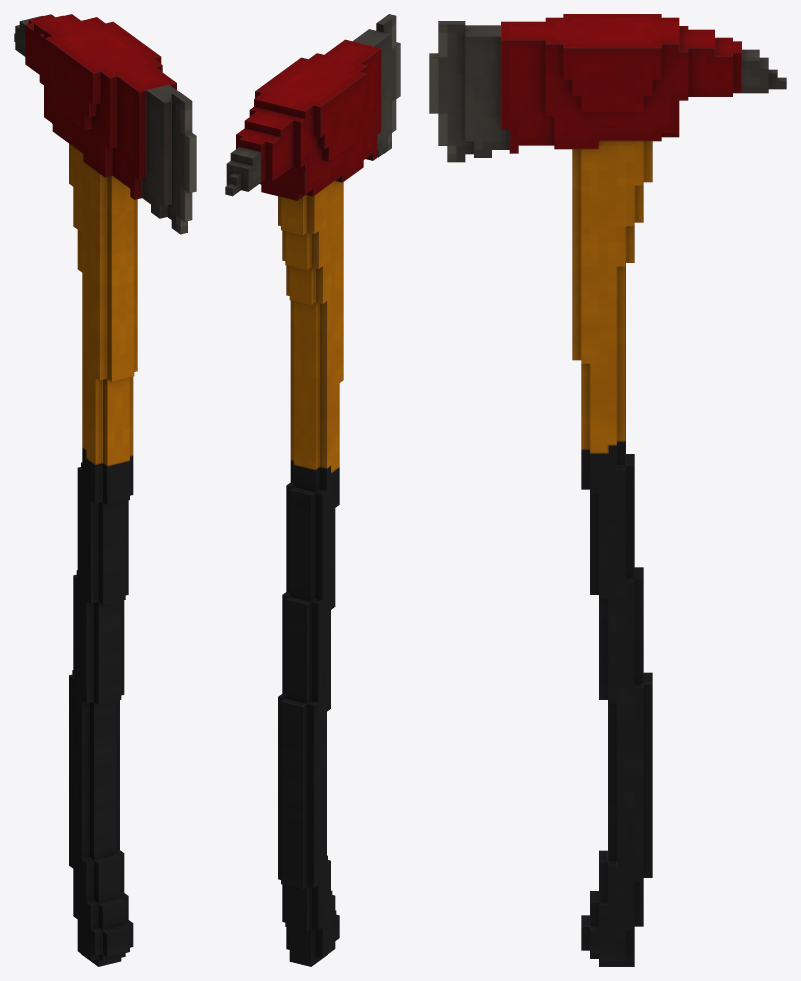
Rendered from RD_FIREAXE.glb.
3 renders of one model, left to right at view 1: azimuth 30°, elevation 25°; view 2: azimuth 150°, elevation 25°; view 3: azimuth 270°, elevation 25°, orthographic. The views are drawn at different scales.
Visible parts, largest first — view 1: FIREAXE; view 2: FIREAXE; view 3: FIREAXE.
Boxes of the visible parts, x1,y1,x2,y2 form: FIREAXE: [14, 14, 196, 966]; FIREAXE: [225, 14, 400, 966]; FIREAXE: [429, 14, 786, 966].
Bounding box in the file's own units: 0.124 × 1.6 × 0.5512.
Materials: 1 (1 with a texture image).
